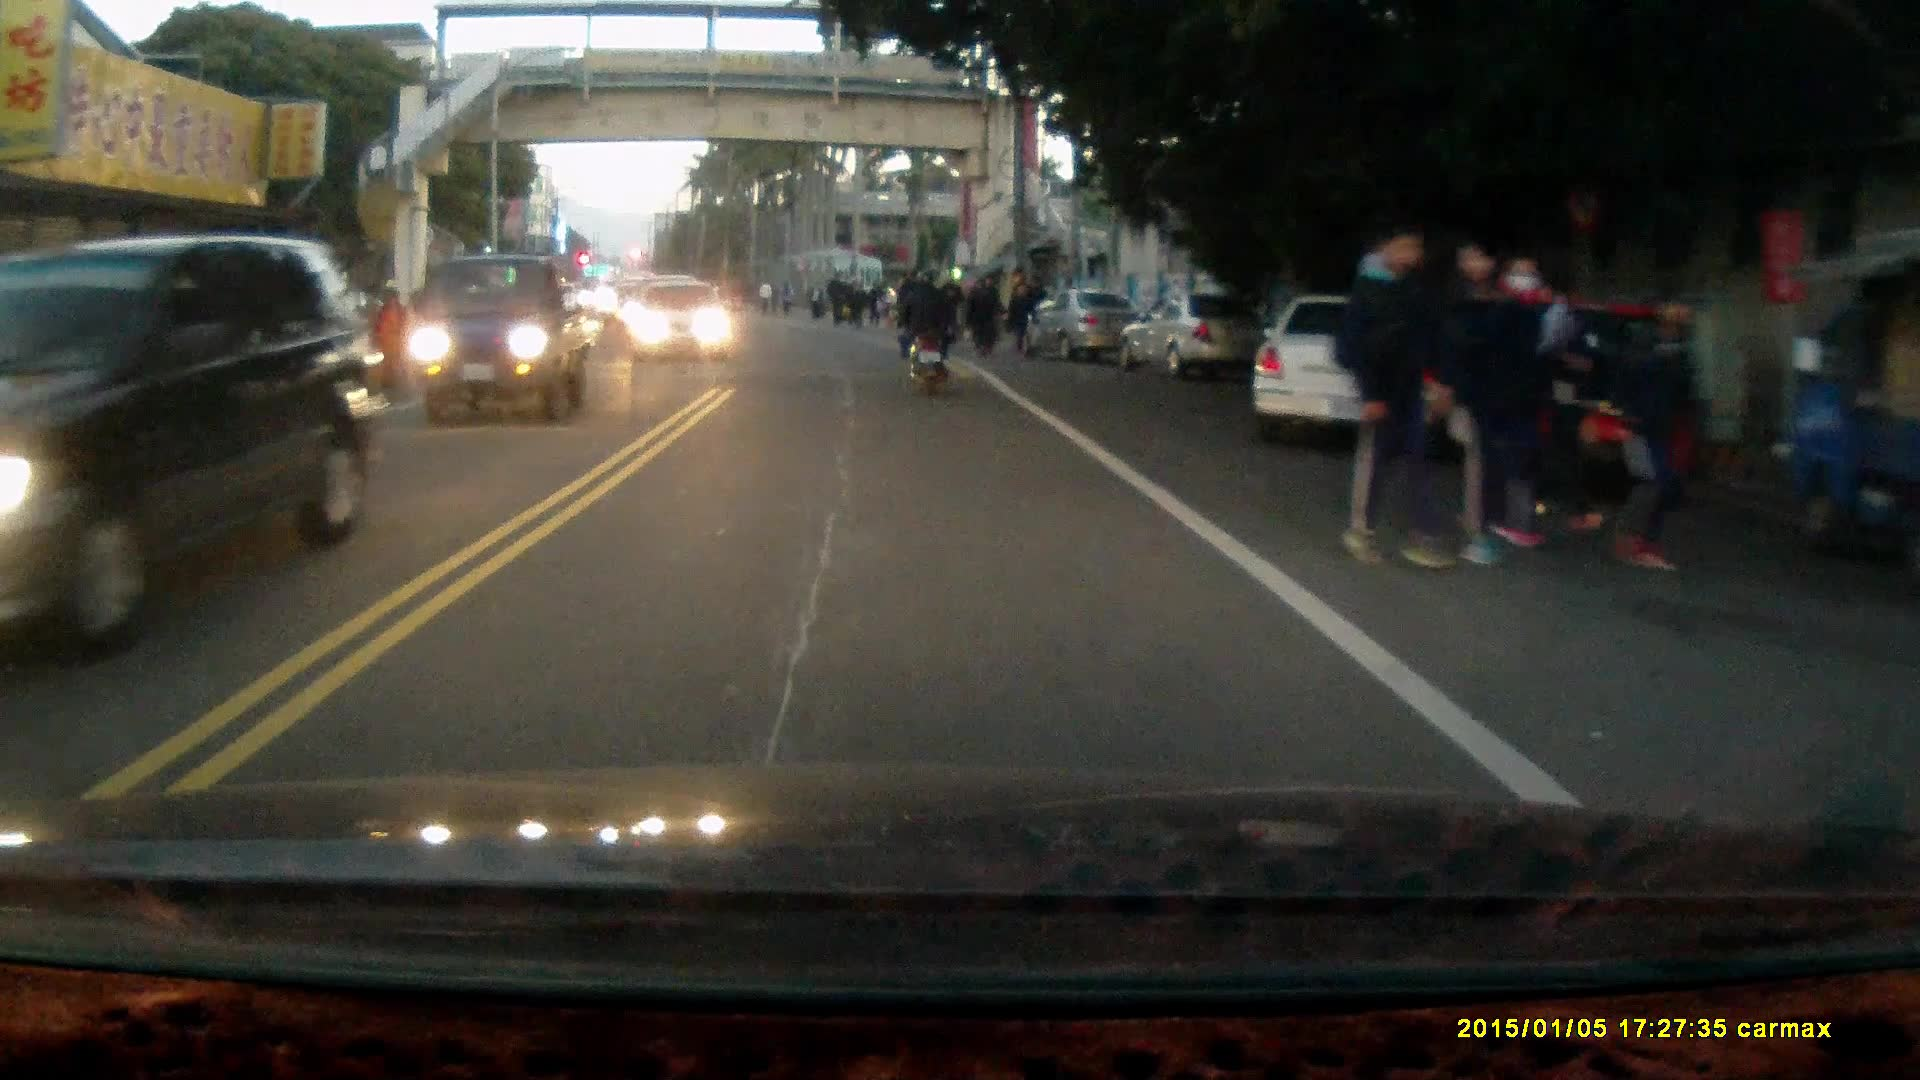pedestrian: (1445, 236, 1581, 572), (1329, 213, 1455, 575), (1609, 281, 1702, 573), (1482, 250, 1572, 551), (974, 263, 1003, 350), (966, 275, 993, 358), (1004, 280, 1032, 353)
rider: (887, 264, 953, 394)
vehicle: (1, 234, 401, 622), (1251, 287, 1469, 444), (414, 257, 597, 426), (1125, 288, 1260, 382), (1022, 290, 1148, 363), (632, 281, 732, 362)
